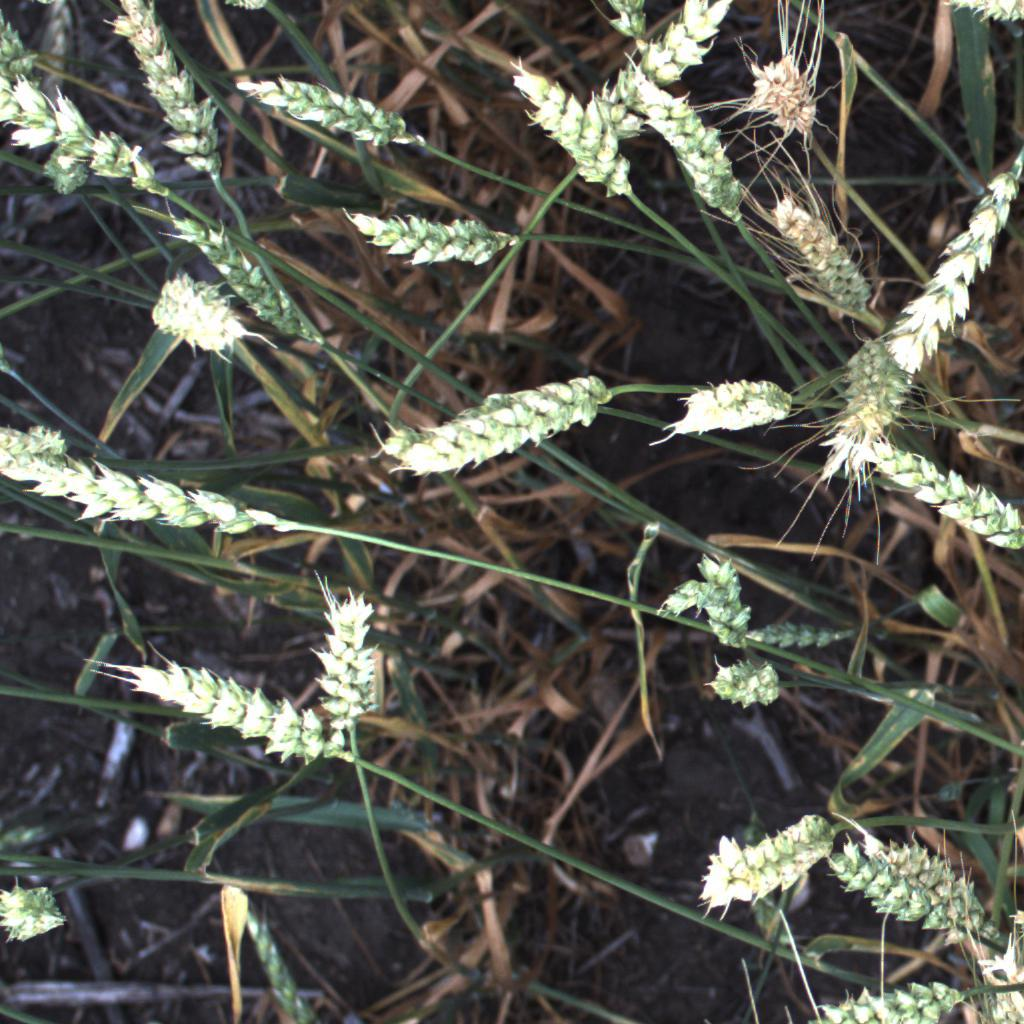0-0: (882, 119, 1023, 386), (0, 423, 302, 544), (370, 350, 623, 493), (566, 0, 749, 189), (121, 640, 356, 774), (825, 414, 1024, 567), (94, 0, 241, 183), (0, 61, 178, 204), (816, 827, 1003, 958), (162, 211, 326, 352), (495, 61, 645, 204), (628, 68, 751, 228), (229, 64, 439, 156), (336, 188, 534, 278), (813, 320, 935, 466), (760, 188, 892, 321), (690, 808, 837, 918), (306, 563, 394, 739), (643, 547, 771, 662), (857, 834, 993, 927), (660, 367, 820, 446), (730, 37, 832, 145), (799, 966, 987, 1024), (148, 277, 255, 358), (693, 648, 801, 721), (0, 871, 79, 955), (737, 606, 859, 655), (598, 0, 660, 53), (933, 0, 1024, 36)
